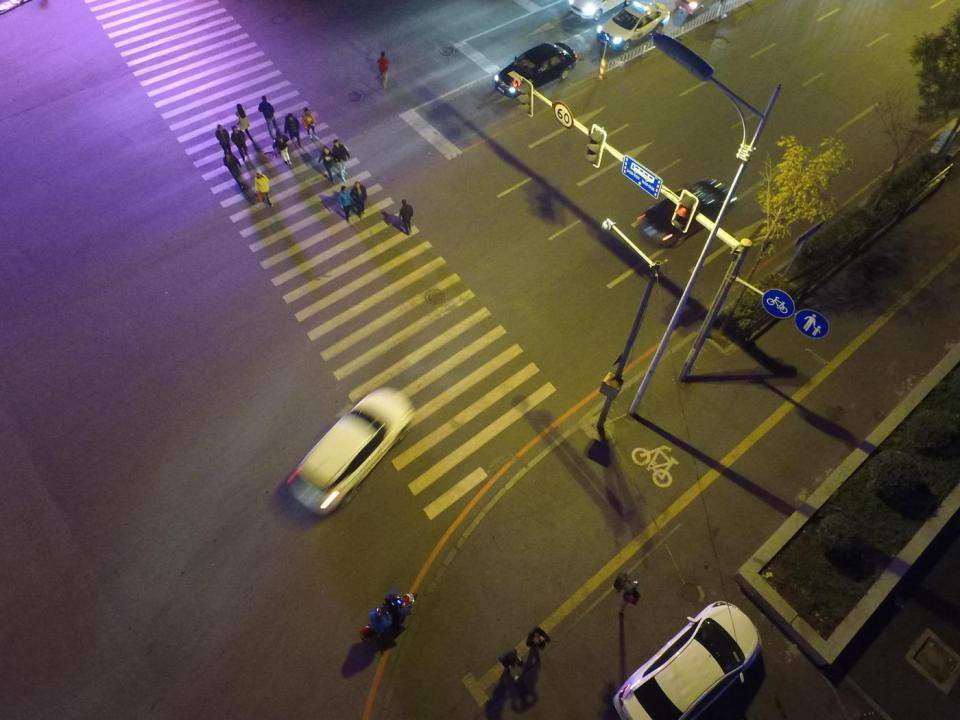car: (608, 602, 757, 720), (279, 387, 414, 516), (634, 176, 739, 246), (493, 42, 575, 99), (597, 2, 670, 51)
